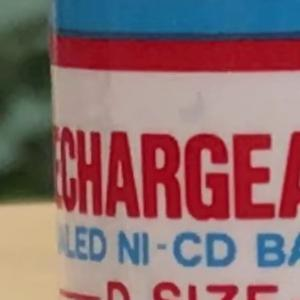NI-CD: (108, 223, 246, 275)
